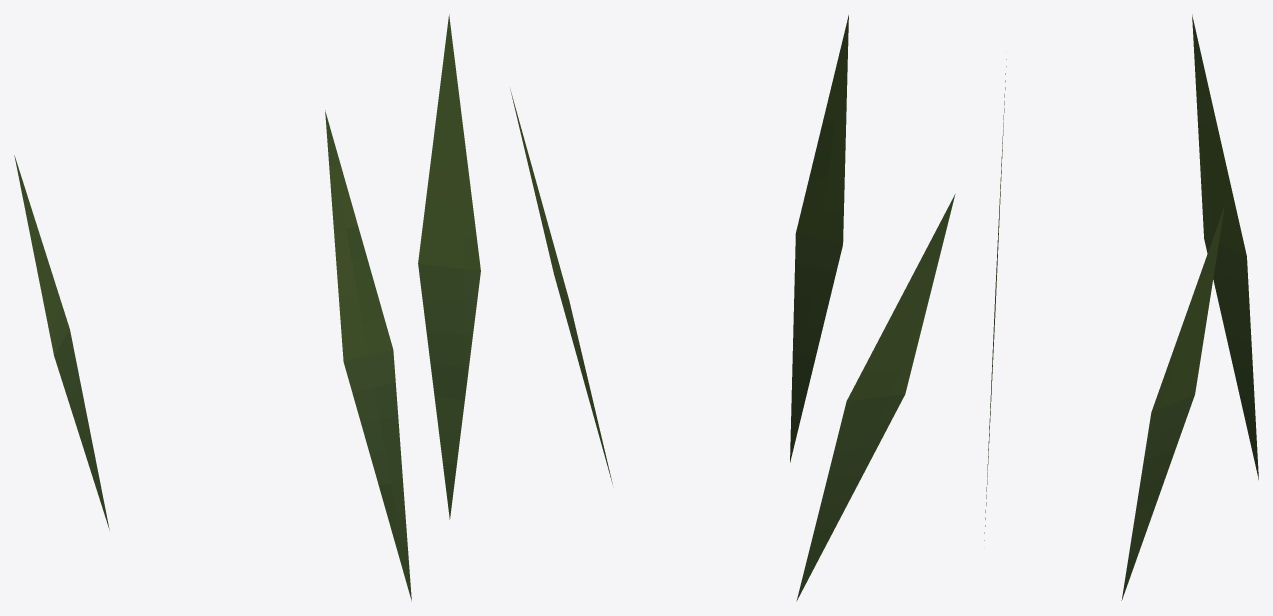
Rendered from plants_me_main_grass31.gltf.
The picture shows the model from 3 angles, left to right: view 1: azimuth 30°, elevation 25°; view 2: azimuth 150°, elevation 25°; view 3: azimuth 270°, elevation 25°; orthographic projection. The views are drawn at different scales.
Visible parts, largest first — view 1: plants_me_main_grass01_mesh_shape:plants_me_main_grass31_01; view 2: plants_me_main_grass01_mesh_shape:plants_me_main_grass31_01; view 3: plants_me_main_grass01_mesh_shape:plants_me_main_grass31_01.
Part boxes in pixels (bbox=[...]): plants_me_main_grass01_mesh_shape:plants_me_main_grass31_01: bbox=[14, 14, 480, 601]; plants_me_main_grass01_mesh_shape:plants_me_main_grass31_01: bbox=[510, 15, 955, 601]; plants_me_main_grass01_mesh_shape:plants_me_main_grass31_01: bbox=[984, 14, 1258, 600].
Bounding box in the file's own units: 0.4252 × 0.45 × 0.24.
1 material, 1 textured.
